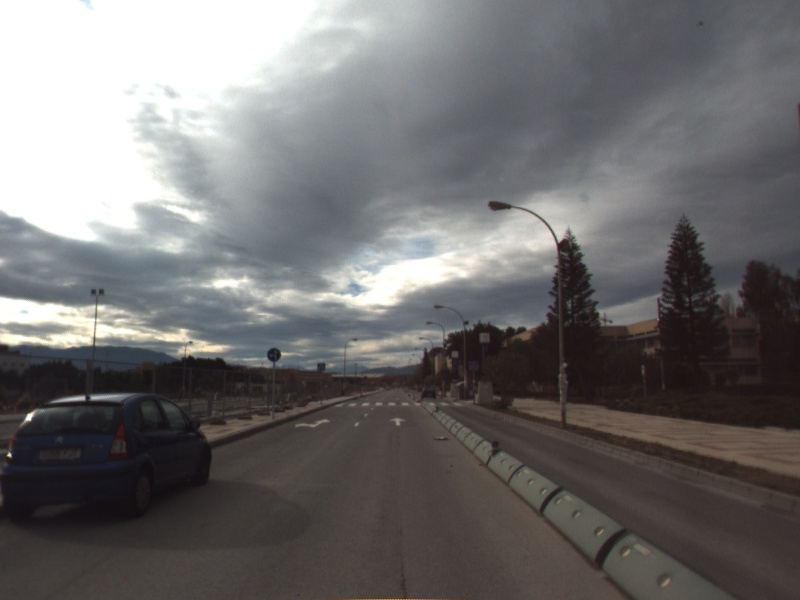STRAIGHT: (387, 415, 409, 428)
STRAIGHT_LEFT: (293, 416, 332, 430)
